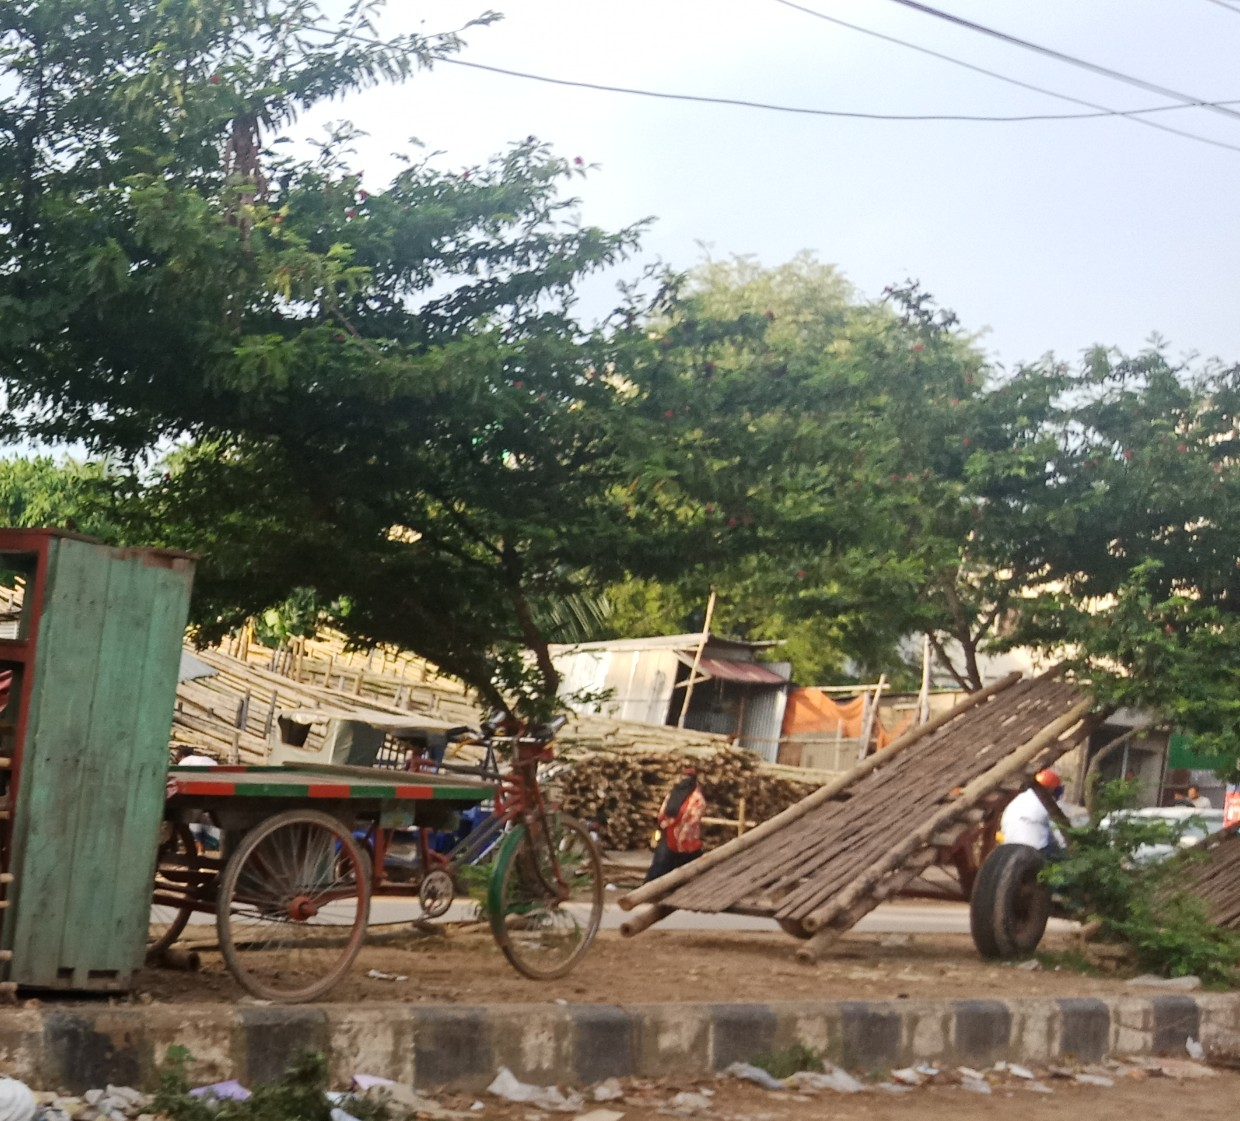van: (146, 712, 609, 1009)
wheelbarrow: (612, 641, 1148, 976)
